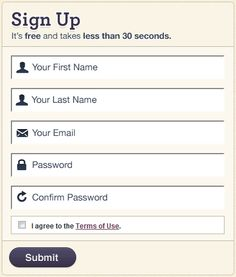button: (8, 243, 82, 270)
checkbox: (9, 216, 143, 236)
textbox: (8, 50, 230, 85), (6, 86, 229, 117), (7, 184, 228, 214), (7, 119, 229, 148), (6, 152, 228, 180)
